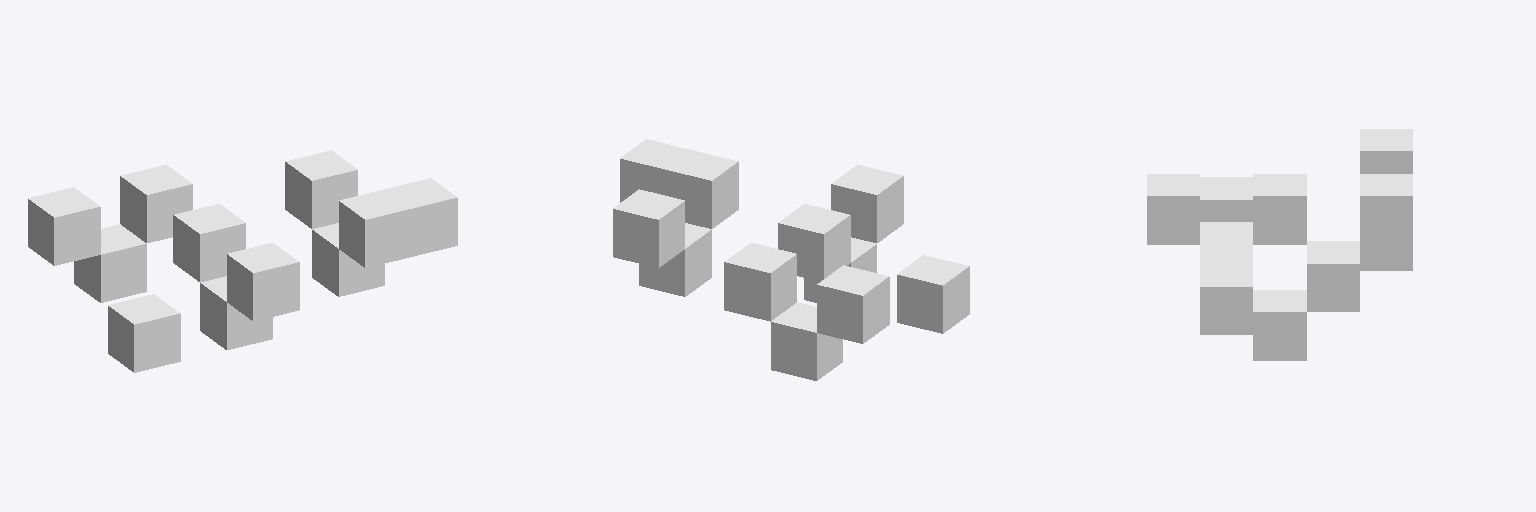
The model's file is grass_frst.obj.
The picture shows the model from 3 angles: view 1: azimuth 30°, elevation 25°; view 2: azimuth 150°, elevation 25°; view 3: azimuth 270°, elevation 25°; orthographic projection.
Parts seen in each view (by area): view 1: grass_frst; view 2: grass_frst; view 3: grass_frst.
Part boxes in pixels (left/top/right/bottom): grass_frst: left=28, top=150, right=457, bottom=372; grass_frst: left=613, top=139, right=969, bottom=380; grass_frst: left=1147, top=129, right=1412, bottom=360.
Size of the model in its own units: 7 by 2 by 5.